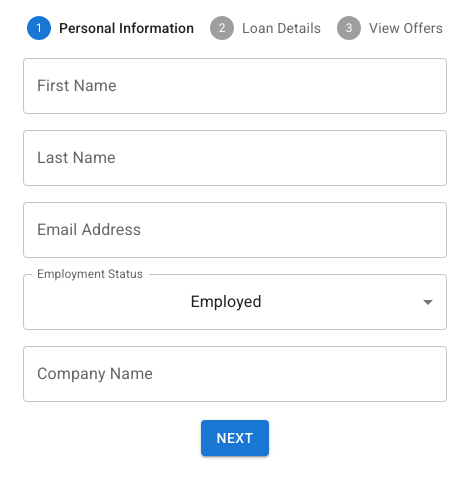
Scenario: Loan Application › User Details Validation › Employment Status › should not show company name when employment status is 'Unemployed'
This screenshot has width=471, height=484.
Click the element with test id "employment-status-select": (235, 302) x1=23 y1=274 x2=447 y2=330
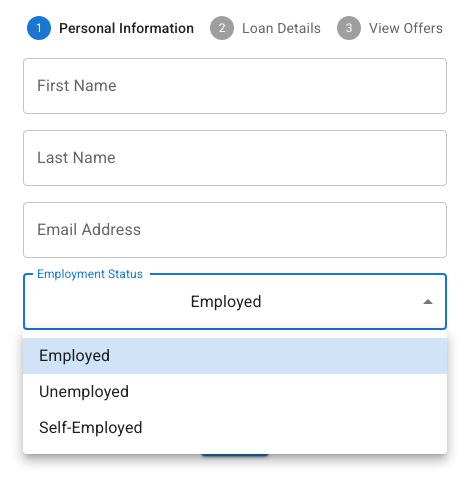
Click the option with test id "employment-status-unemployed": (84, 392) x1=39 y1=382 x2=129 y2=401
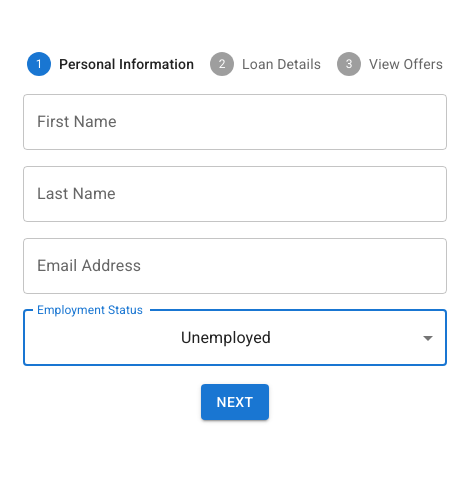
Check: the field named "companyName" is gone
